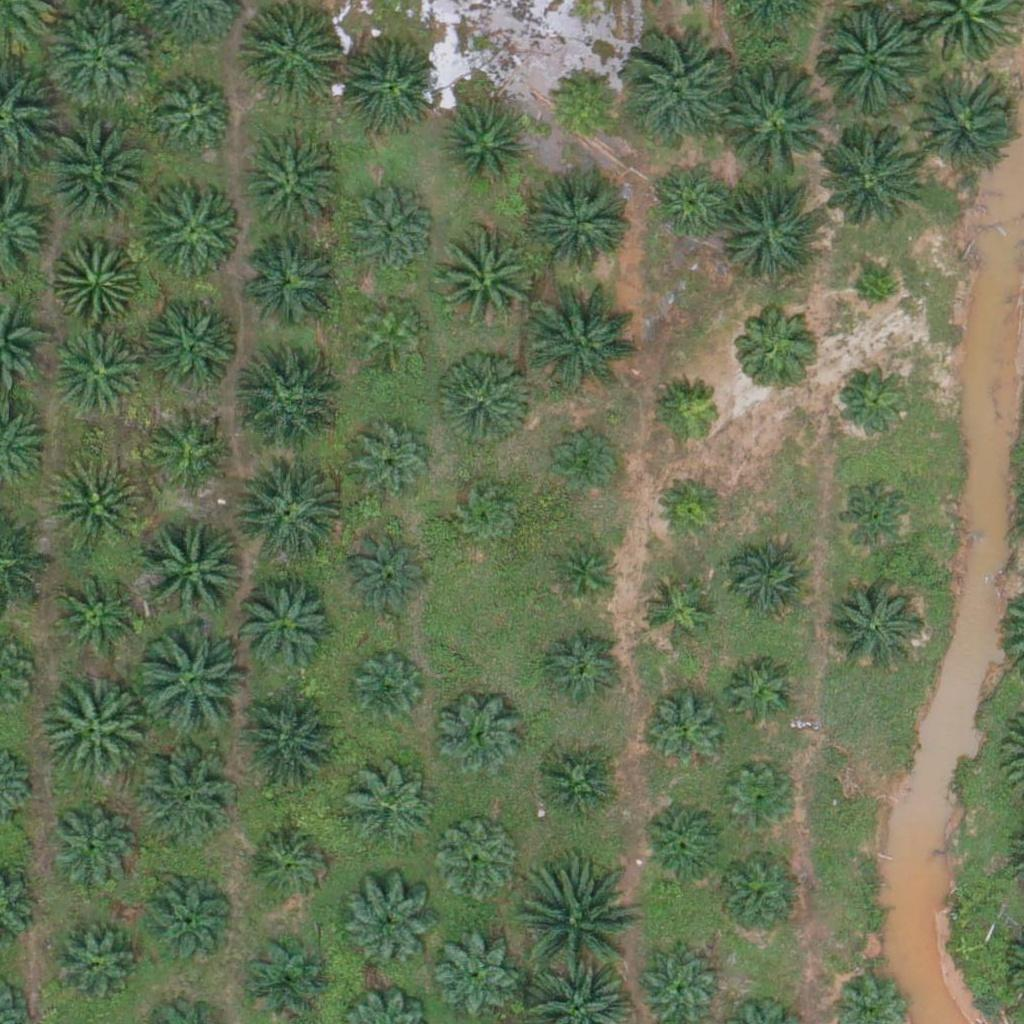Kelapa_Sawit: (521, 868, 634, 981), (226, 693, 339, 806), (135, 630, 248, 743), (812, 6, 925, 119), (809, 123, 922, 236), (624, 35, 737, 148), (141, 515, 253, 629), (716, 65, 828, 179), (35, 674, 147, 787), (38, 113, 150, 226), (227, 344, 339, 457), (228, 458, 340, 571), (529, 284, 641, 397), (905, 66, 1017, 179), (721, 175, 833, 288), (824, 578, 924, 679), (235, 580, 335, 681), (132, 747, 232, 848), (44, 455, 144, 556), (143, 299, 243, 400), (142, 175, 242, 276), (244, 139, 344, 240), (242, 230, 342, 331), (335, 37, 435, 138), (434, 230, 534, 331), (531, 169, 631, 270), (241, 1, 341, 101), (435, 349, 535, 449), (641, 684, 729, 773), (833, 472, 921, 561), (539, 628, 627, 716), (527, 744, 615, 832), (711, 851, 799, 939), (343, 887, 431, 975), (45, 918, 133, 1006), (143, 873, 231, 961), (244, 819, 332, 907), (433, 820, 521, 908), (648, 161, 736, 249), (55, 325, 143, 413), (51, 576, 139, 664), (149, 400, 237, 488), (342, 533, 430, 621), (349, 415, 437, 503), (733, 298, 821, 386), (727, 537, 815, 625), (640, 799, 727, 887), (47, 801, 134, 889), (240, 932, 327, 1020), (435, 691, 522, 779), (432, 933, 519, 1021), (346, 764, 433, 852), (53, 233, 140, 321), (154, 75, 241, 163), (347, 182, 434, 270), (441, 102, 528, 190), (831, 354, 918, 442), (545, 63, 620, 139), (350, 654, 425, 730), (548, 425, 623, 501), (723, 764, 798, 840), (546, 537, 621, 613), (653, 375, 728, 450), (354, 296, 429, 371), (638, 575, 713, 650), (452, 480, 527, 555), (726, 659, 801, 734), (653, 471, 728, 546), (850, 269, 900, 319)
